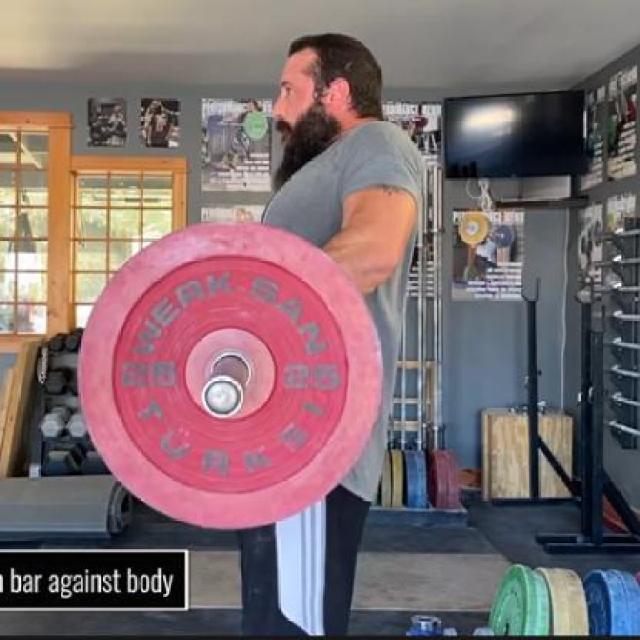barbell: (69, 213, 392, 546)
